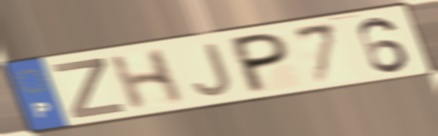6: (355, 14, 411, 75)
7: (292, 19, 341, 87)
H: (106, 46, 188, 113)
J: (190, 40, 235, 98)
P: (230, 30, 291, 97)
Z: (50, 56, 129, 121)
